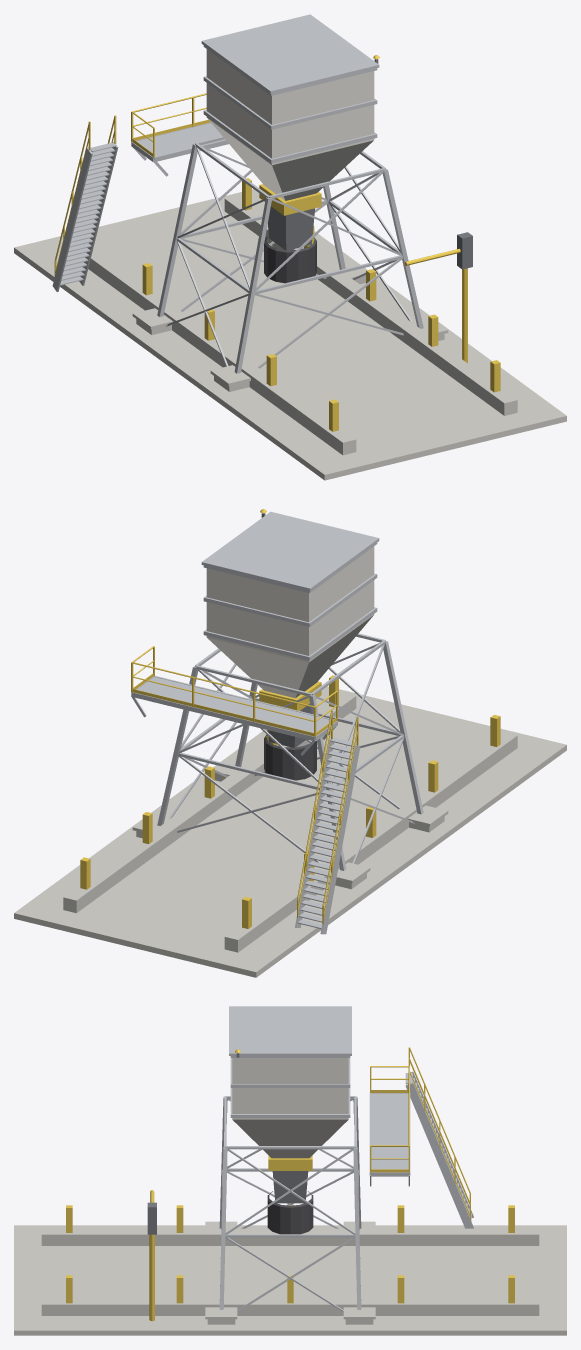
File: ore-processing-and-haulage-plant-truck-loadout-872f7ff4.glb
3 views of the same model, one above another, from view 1: azimuth 30°, elevation 25°; view 2: azimuth 150°, elevation 25°; view 3: azimuth 270°, elevation 25° (orthographic). The views are drawn at different scales.
Visible parts, largest first — view 1: truck-loadout; view 2: truck-loadout; view 3: truck-loadout.
Boxes of the visible parts, box(x1,y1,x2,y2) form: truck-loadout: box(14, 14, 566, 480); truck-loadout: box(14, 509, 566, 977); truck-loadout: box(14, 1006, 566, 1335).
Size of the model in its own units: 9.51 by 10.29 by 20.
